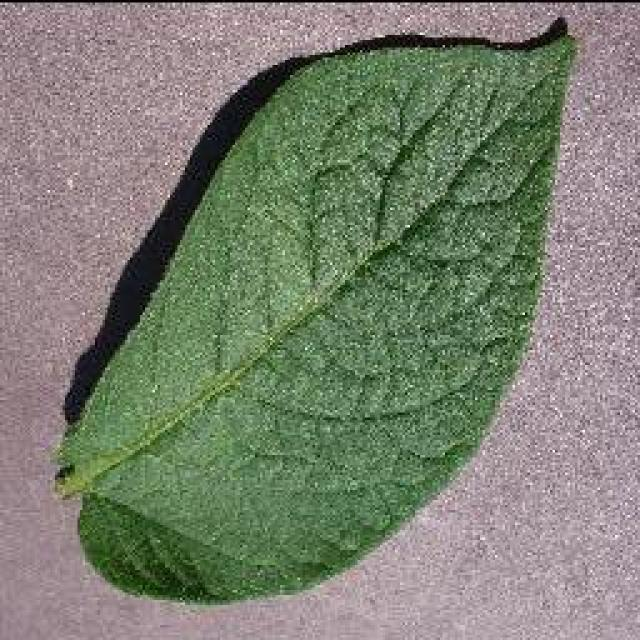Potato___healthy: (49, 30, 587, 610)
